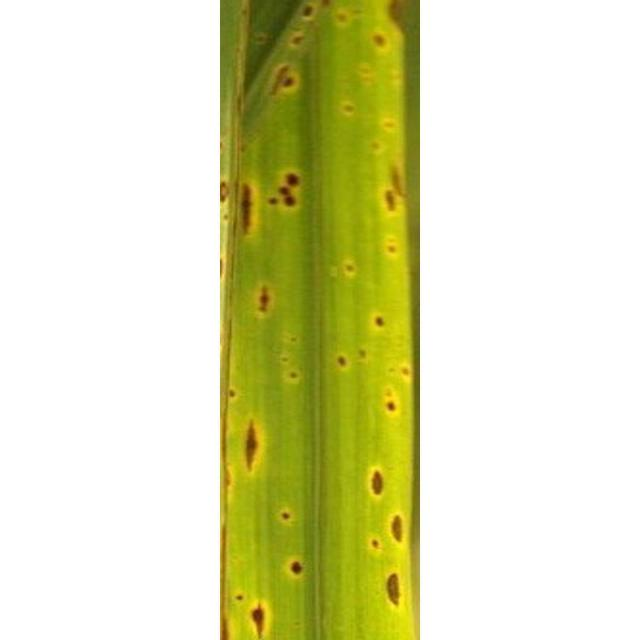Brown spot: (205, 0, 450, 640)
